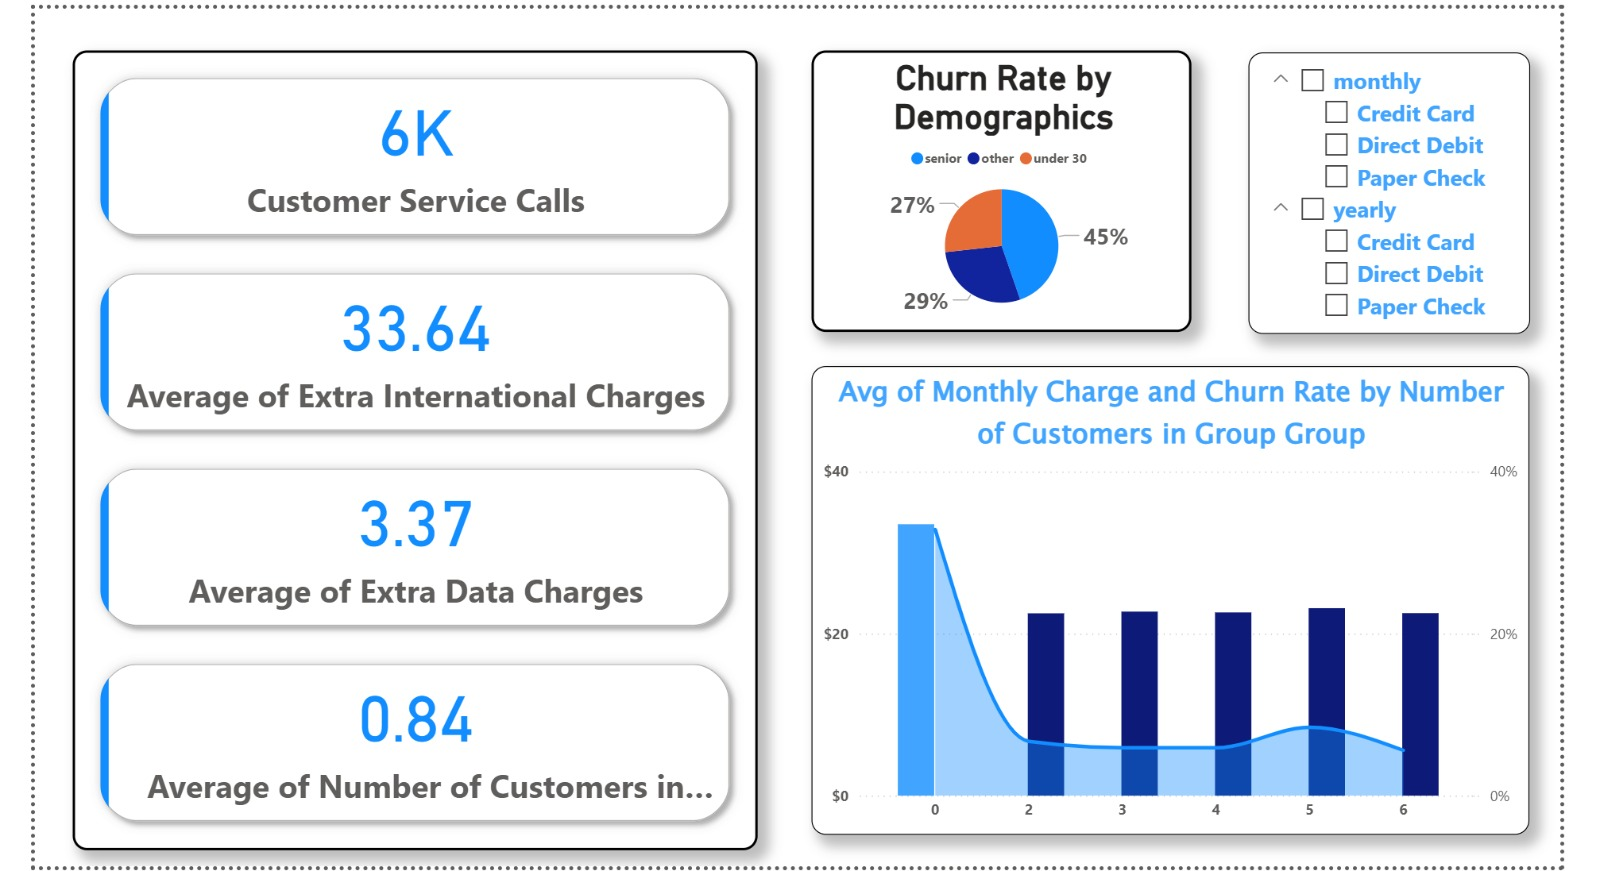

The page's visual inventory and layout, read from the dashboard file:
{"tool":"powerbi","page":{"name":"Page 4","canvas":[1280,720],"ordinal":3},"visuals":[{"type":"lineClusteredColumnComboChart","title":"Avg of Monthly Charge and Churn Rate by Number of Customers in Group  Group","fields":{"Category":["Databel - Data.Number of Customers in Group"],"Y":["Avg(Databel - Data.Monthly Charge)"],"Y2":["Databel - Data.Churn Rate"],"Series":["Databel - Data.Group"]},"box":[651.2,300,602.5,393.8],"z":0},{"type":"cardVisual","fields":{"Data":["Sum(Databel - Data.Customer Service Calls)","Avg(Databel - Data.Extra International Charges)","Avg(Databel - Data.Extra Data Charges)","Avg(Databel - Data.Number of Customers in Group)"]},"box":[32.3,34.9,574.9,671.8],"z":1},{"type":"slicer","fields":{"Values":["Databel - Data.Contract Category","Databel - Data.Payment Method"]},"box":[1017.5,36.2,236.2,236.2],"z":2},{"type":"pieChart","fields":{"Y":["Databel - Data.Churn Rate"],"Category":["Databel - Data.Demographics"]},"box":[651.2,35,318.8,236.2],"z":3}]}

Visuals, with their boxes in screenshot pixels (x1, y1, x2, y2):
"Avg of Monthly Charge and Churn Rate by Number of Customers in Group  Group" lineClusteredColumnComboChart: left=806, top=362, right=1525, bottom=832
cardVisual - Sum(Databel - Data.Customer Service Calls) x Avg(Databel - Data.Extra International Charges): left=68, top=46, right=753, bottom=847
slicer - Databel - Data.Contract Category x Databel - Data.Payment Method: left=1243, top=47, right=1525, bottom=329
pieChart - Databel - Data.Churn Rate x Databel - Data.Demographics: left=806, top=46, right=1186, bottom=328
